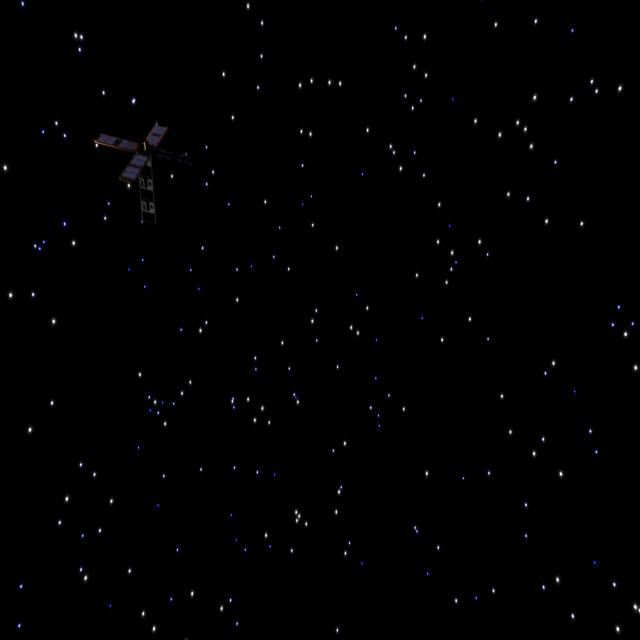satellite: (89, 117, 197, 231)
